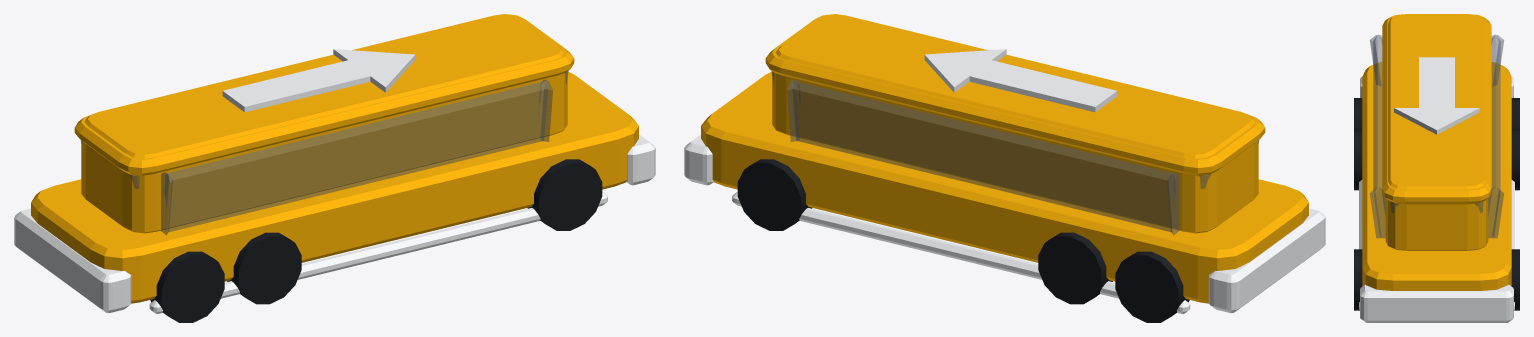
Rendered from truck.glb.
3 views of the same model, side by side, from view 1: azimuth 30°, elevation 25°; view 2: azimuth 150°, elevation 25°; view 3: azimuth 270°, elevation 25° (orthographic). The views are drawn at different scales.
Visible parts, largest first — view 1: cabin, body, side_window, wheel (×3), roof, roof_arrow, bumper_rear, sill, bumper_front; view 2: cabin, body, side_window, wheel (×3), roof, roof_arrow, bumper_rear, sill, bumper_front; view 3: cabin, body, bumper_front, side_window (×2), roof, roof_arrow, wheel (×6), sill (×2).
Part boxes in pixels (box(x1,y1,x2,y2)): cabin: box(81, 14, 567, 233); body: box(31, 72, 638, 303); side_window: box(160, 79, 552, 235); wheel (×3): box(150, 159, 602, 322); roof: box(74, 15, 574, 176); roof_arrow: box(222, 49, 415, 112); bumper_rear: box(14, 208, 131, 313); sill: box(149, 192, 607, 313); bumper_front: box(626, 134, 655, 185); cabin: box(772, 14, 1258, 233); body: box(701, 72, 1308, 303); side_window: box(787, 79, 1179, 235); wheel (×3): box(737, 159, 1189, 322); roof: box(765, 15, 1265, 176); roof_arrow: box(924, 49, 1117, 112); bumper_rear: box(1208, 208, 1325, 313); sill: box(732, 192, 1190, 313); bumper_front: box(684, 134, 713, 185); cabin: box(1385, 14, 1488, 250); body: box(1362, 62, 1511, 290); bumper_front: box(1360, 284, 1513, 322); side_window (×2): box(1370, 34, 1503, 238); roof: box(1382, 15, 1491, 204); roof_arrow: box(1394, 57, 1479, 134); wheel (×6): box(1354, 98, 1519, 310); sill (×2): box(1359, 180, 1514, 309).
Size of the model in its own units: 3.17 by 0.902 by 1.
